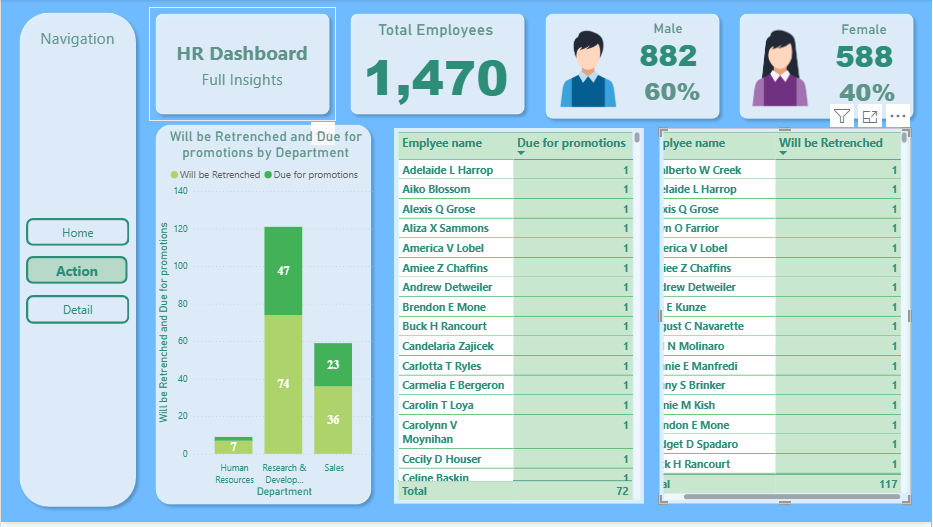

This screenshot's page, from the dashboard's own definition file:
{"tool":"powerbi","page":{"name":"Action","canvas":[1280,720],"ordinal":1},"visuals":[{"type":"shape","box":[16.1,9.9,178.3,698.2],"z":0},{"type":"shape","box":[203.7,10.5,257.6,156.9],"z":1000},{"type":"shape","box":[471.8,10.5,257.6,156.9],"z":2000},{"type":"shape","box":[741.1,10.5,257.6,162.7],"z":3000},{"type":"shape","box":[1008,10.5,257.6,162.7],"z":4000},{"type":"textbox","box":[215.4,49.2,231.8,51.5],"z":5000},{"type":"textbox","box":[215.4,91.3,231.8,44.5],"z":6000},{"type":"card","title":"Total Employees","fields":{"Values":["All Measures.Total Emp"]},"box":[484.7,29.3,228.3,124.1],"z":7000},{"type":"card","title":"Male","fields":{"Values":["All Measures.Male"]},"box":[853.5,29.3,130,71.4],"z":8000},{"type":"card","title":"Male","fields":{"Values":["All Measures.% male"]},"box":[869.9,100.7,108.9,52.7],"z":9000},{"type":"card","title":"Female","fields":{"Values":["All Measures.Female"]},"box":[1122.9,30.8,130,71.4],"z":10000},{"type":"card","title":"Male","fields":{"Values":["All Measures.% female"]},"box":[1136.8,100.7,111.2,53.9],"z":11000},{"type":"image","box":[749.3,34,120.6,120.6],"z":12000},{"type":"image","box":[1019.7,34,103,119.4],"z":13000},{"type":"tableEx","fields":{"Values":["HR Analytics Data.Emplyee name","All Measures.Due for promotions"]},"box":[540.9,178,344.2,517.5],"z":14000},{"type":"tableEx","fields":{"Values":["HR Analytics Data.Emplyee name","All Measures.Will be Retrenched"]},"box":[906.1,178,346.5,517.5],"z":15000},{"type":"textbox","box":[34,34,141.7,41],"z":16000},{"type":"actionButton","box":[34.7,302.1,142.4,38.4],"z":17000},{"type":"actionButton","box":[34.7,354,139.9,38.4],"z":18000},{"type":"actionButton","box":[34.7,407.3,142.4,39.6],"z":19000},{"type":"shape","box":[203.7,163.9,314.9,540.9],"z":20000},{"type":"columnChart","fields":{"Category":["HR Analytics Data.Department"],"Y":["All Measures.Will be Retrenched","All Measures.Due for promotions"]},"box":[210.7,178,307.9,512.8],"z":21000}]}

Visuals, with their boxes in screenshot pixels (x1, y1, x2, y2), scaled from the page's 1280x720 canvas onto the 933x527 screenshot:
shape: bbox=[12, 7, 142, 518]
shape: bbox=[148, 8, 336, 123]
shape: bbox=[344, 8, 532, 123]
shape: bbox=[540, 8, 728, 127]
shape: bbox=[735, 8, 923, 127]
textbox: bbox=[157, 36, 326, 74]
textbox: bbox=[157, 67, 326, 99]
"Total Employees" card: bbox=[353, 21, 520, 112]
"Male" card: bbox=[622, 21, 717, 74]
"Male" card: bbox=[634, 74, 713, 112]
"Female" card: bbox=[818, 23, 913, 75]
"Male" card: bbox=[829, 74, 910, 113]
image: bbox=[546, 25, 634, 113]
image: bbox=[743, 25, 818, 112]
tableEx - HR Analytics Data.Emplyee name x All Measures.Due for promotions: bbox=[394, 130, 645, 509]
tableEx - HR Analytics Data.Emplyee name x All Measures.Will be Retrenched: bbox=[660, 130, 913, 509]
textbox: bbox=[25, 25, 128, 55]
actionButton: bbox=[25, 221, 129, 249]
actionButton: bbox=[25, 259, 127, 287]
actionButton: bbox=[25, 298, 129, 327]
shape: bbox=[148, 120, 378, 516]
columnChart - HR Analytics Data.Department x All Measures.Will be Retrenched: bbox=[154, 130, 378, 506]
